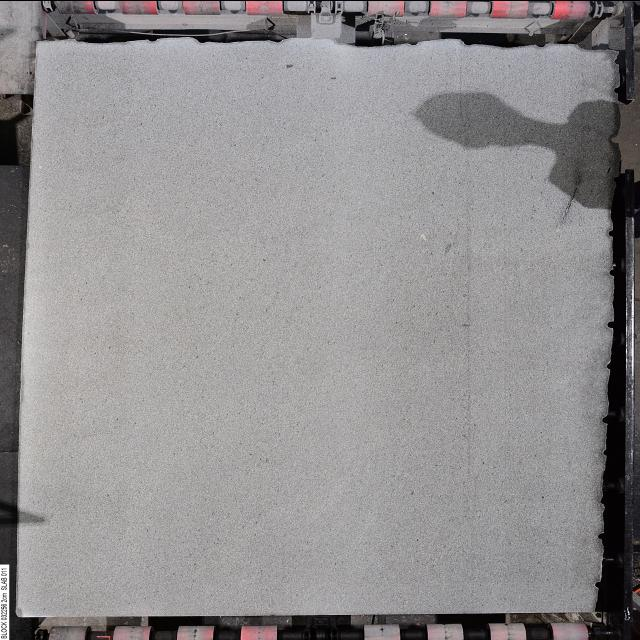chapa: (19, 38, 616, 615)
veio: (593, 580, 605, 590), (596, 530, 608, 540), (600, 414, 612, 424), (606, 318, 618, 328), (606, 268, 618, 276), (607, 136, 618, 144)
